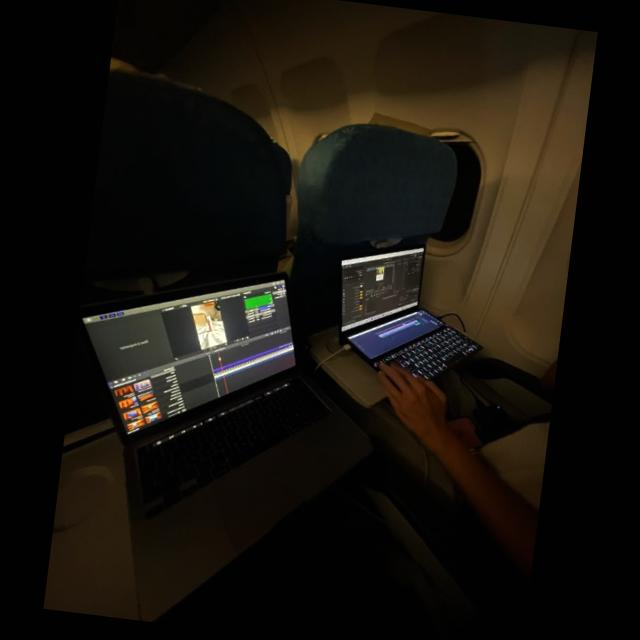laptop: (76, 252, 352, 608), (326, 238, 460, 366)
